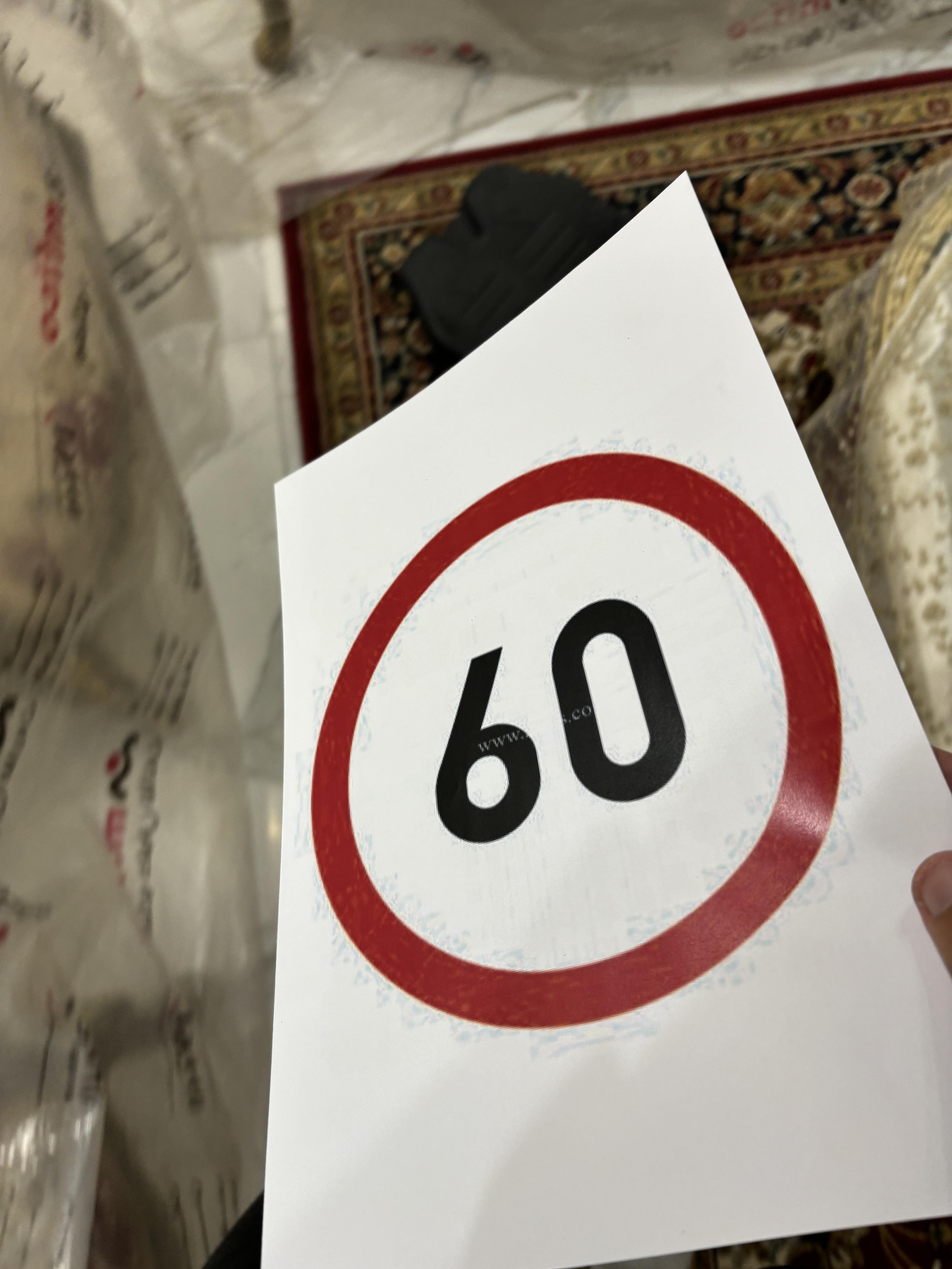60-Speed: (300, 449, 865, 1045)
